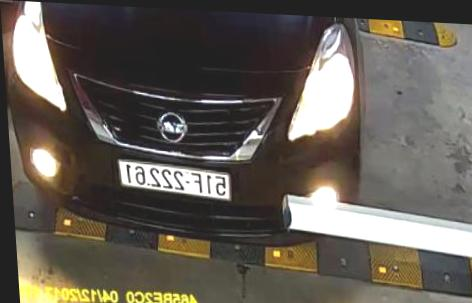License_Plate: (115, 158, 233, 202)
